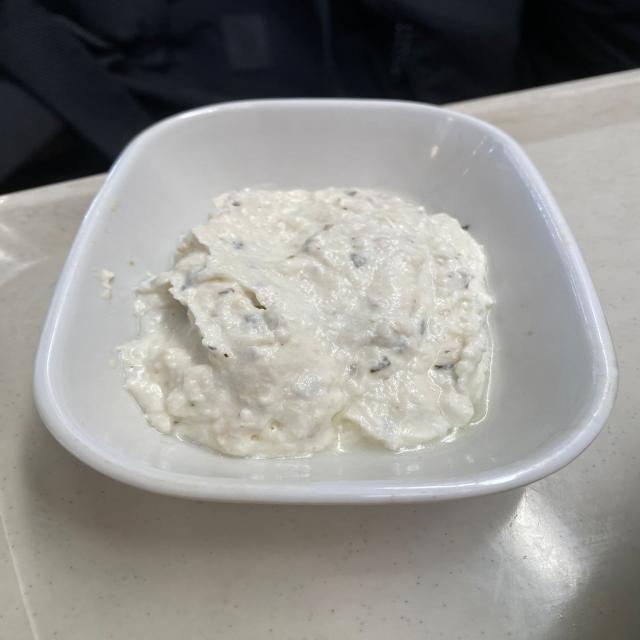yan_yemek: (114, 184, 497, 460)
